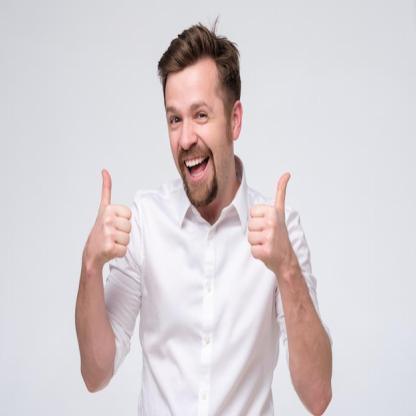thumb_up: (88, 165, 134, 263), (246, 169, 292, 267)
